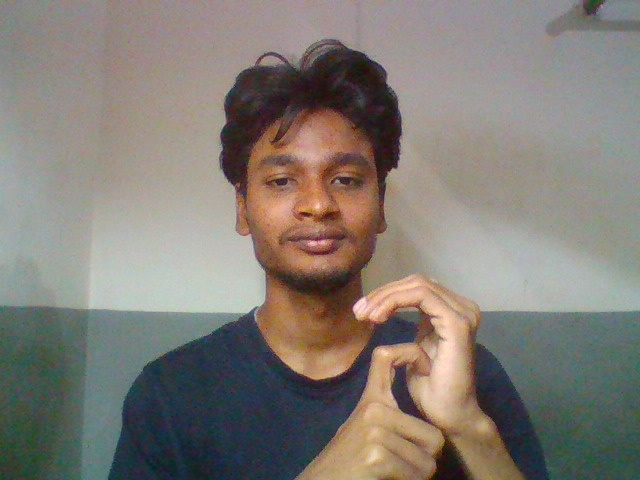G: (326, 283, 499, 480)
